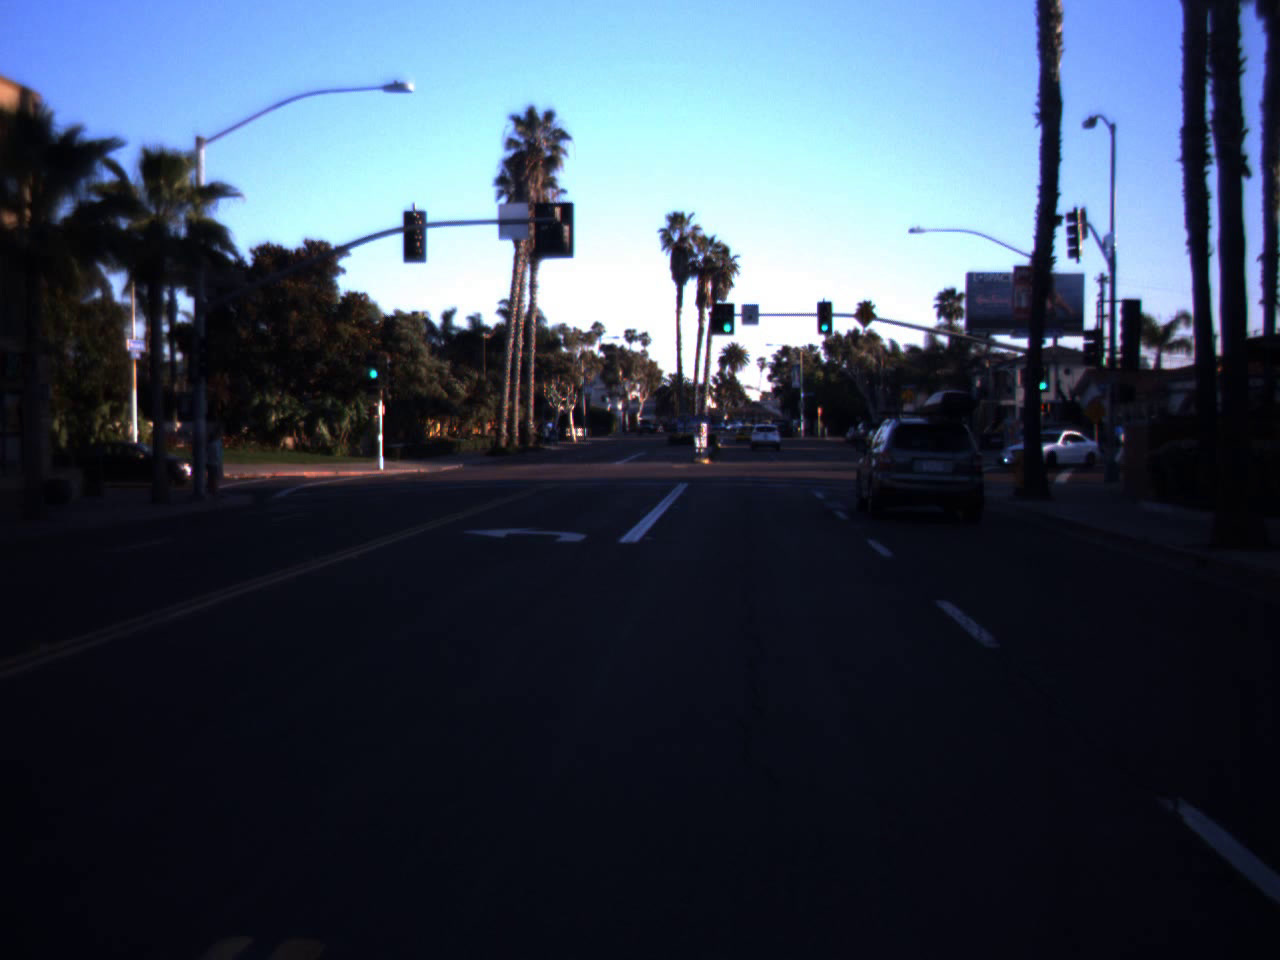go: (718, 300, 736, 335), (817, 307, 832, 332), (1036, 365, 1051, 390), (368, 350, 380, 380)
